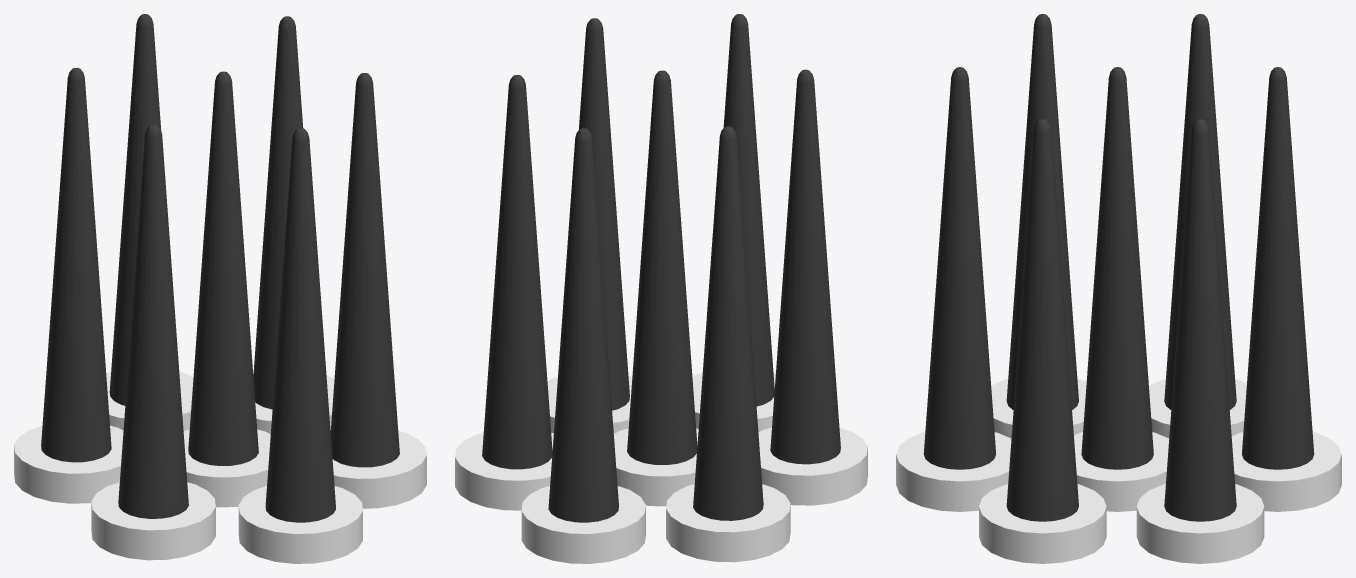
File: spike.fbx
3 views of the same model, side by side, from view 1: azimuth 30°, elevation 25°; view 2: azimuth 150°, elevation 25°; view 3: azimuth 270°, elevation 25° (orthographic). The views are drawn at different scales.
Parts seen in each view (by area): view 1: Cylinder.011; view 2: Cylinder.011; view 3: Cylinder.011.
Part boxes in pixels (box(x1,y1,x2,y2)): Cylinder.011: box(14, 14, 426, 563); Cylinder.011: box(455, 14, 867, 563); Cylinder.011: box(896, 14, 1341, 563).
Bounding box in the file's own units: 0.4815 × 0.5893 × 0.5705.
